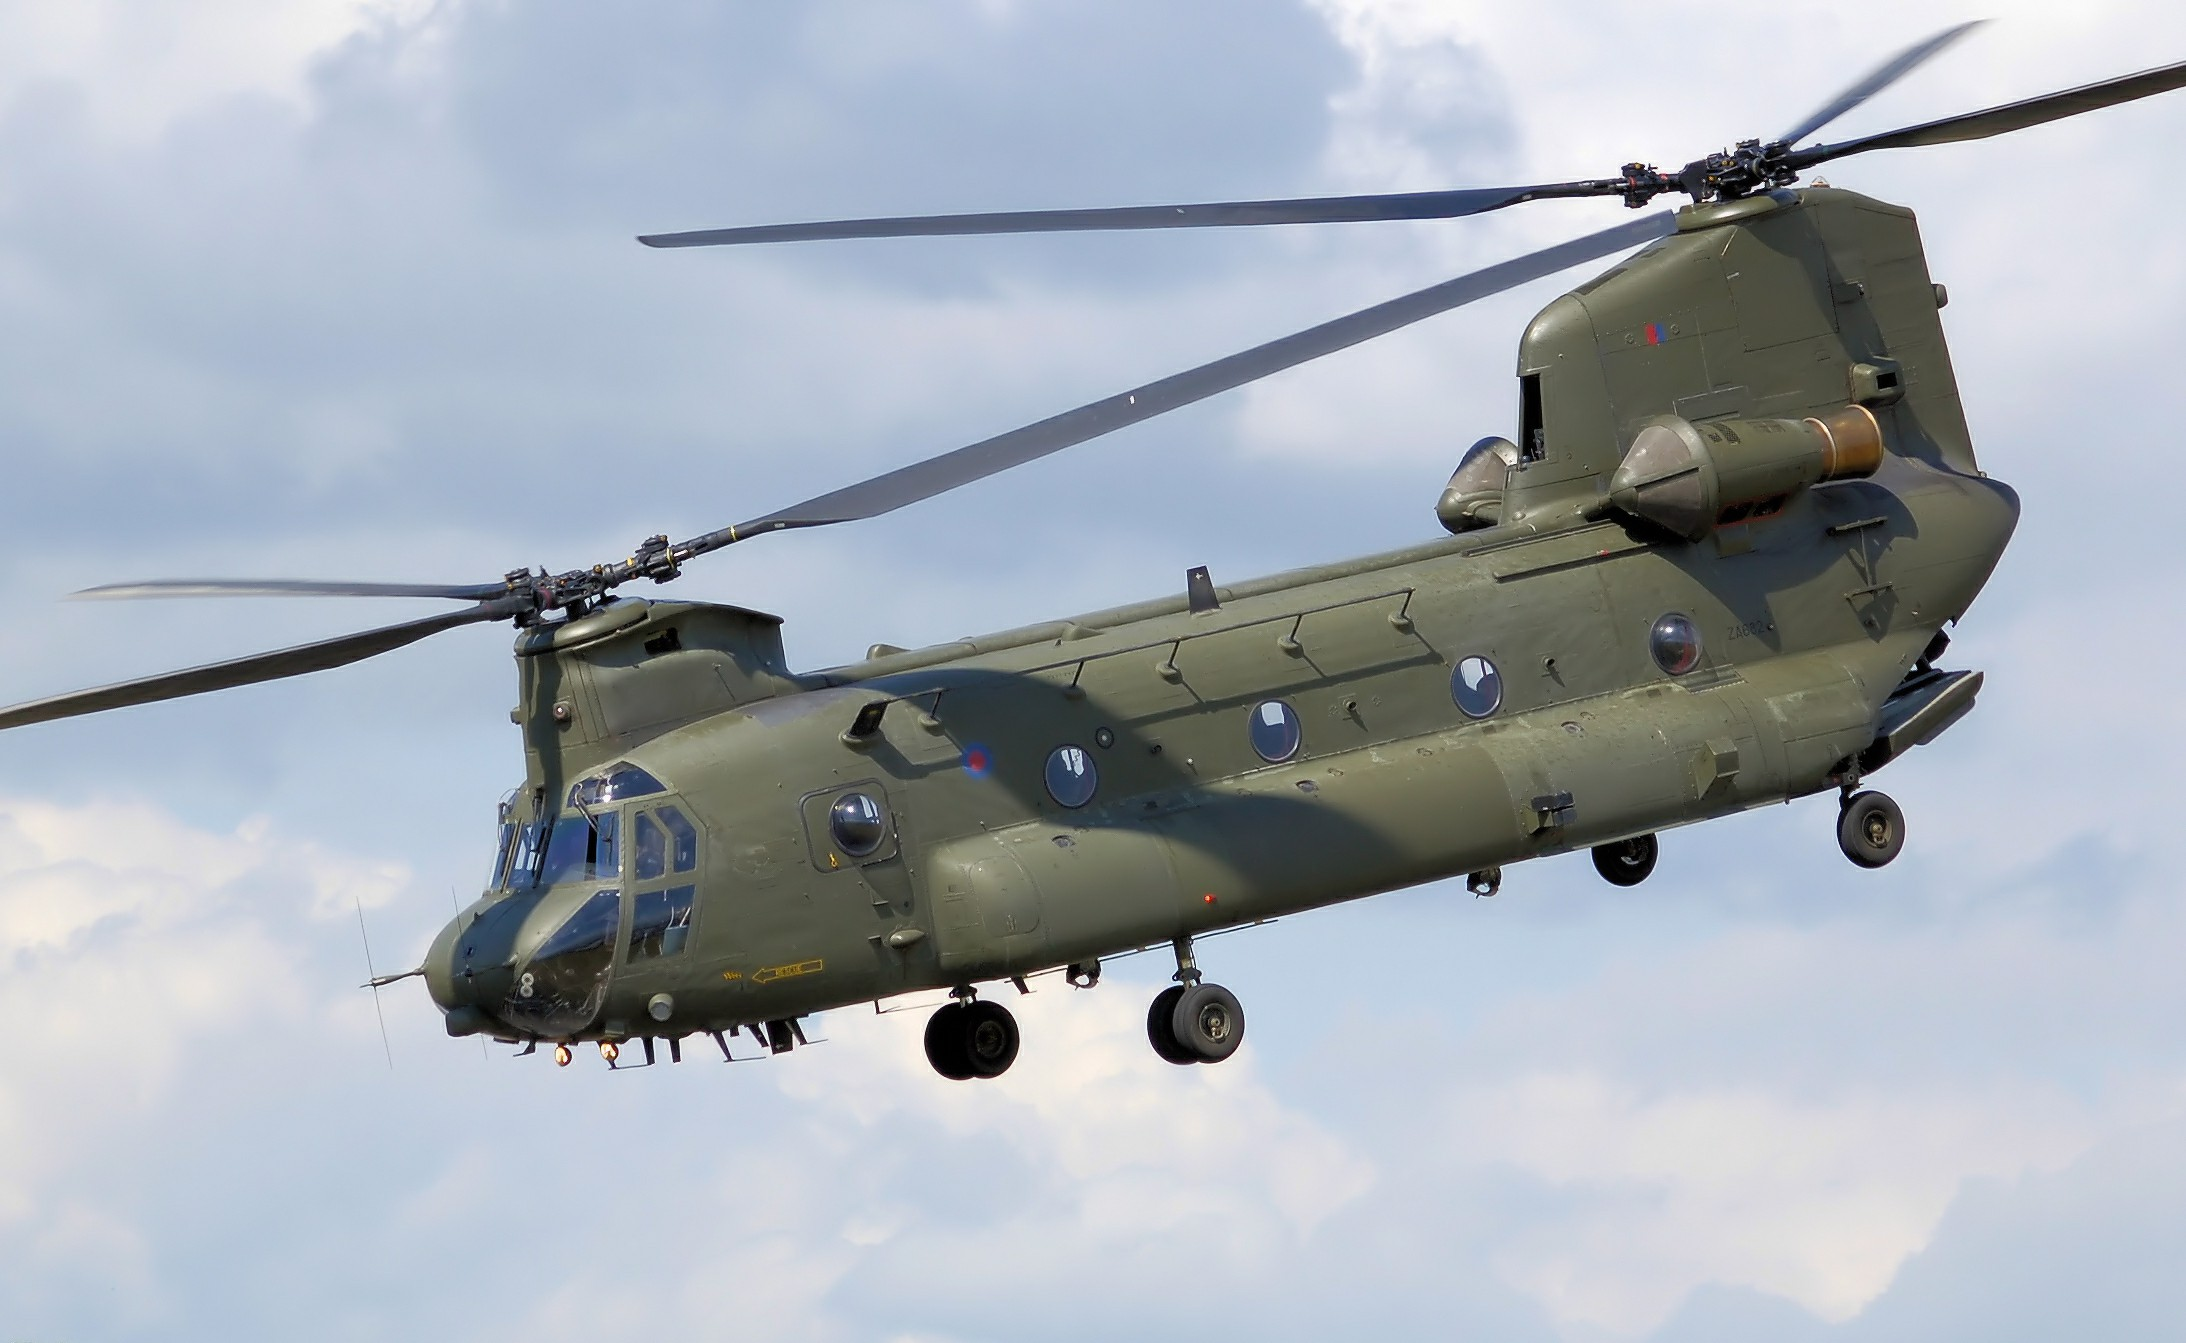chinook: (275, 120, 2028, 1095)
